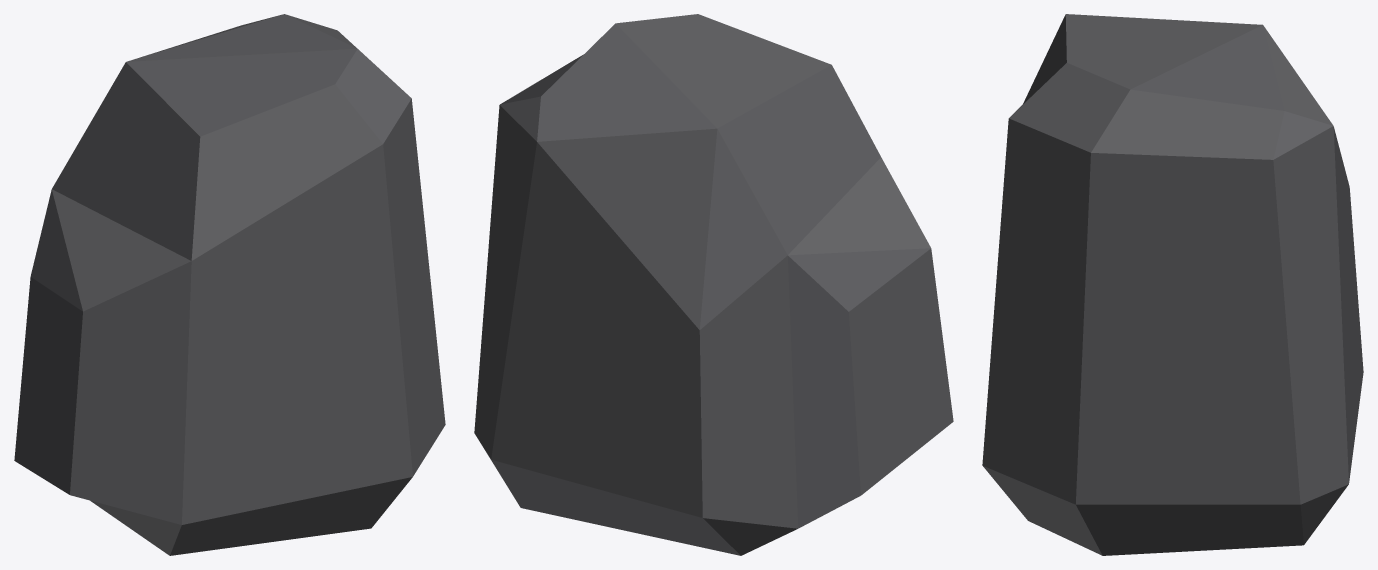
File: TB_Env_Rock1_C.FBX
3 views of the same model, side by side, from view 1: azimuth 30°, elevation 25°; view 2: azimuth 150°, elevation 25°; view 3: azimuth 270°, elevation 25° (orthographic). The views are drawn at different scales.
Parts seen in each view (by area): view 1: TB_Env_Rock1_C; view 2: TB_Env_Rock1_C; view 3: TB_Env_Rock1_C.
Part boxes in pixels (x1,y1,x2,y2): TB_Env_Rock1_C: (14, 14, 445, 555); TB_Env_Rock1_C: (474, 14, 953, 555); TB_Env_Rock1_C: (982, 14, 1363, 555).
Size of the model in its own units: 2.42 by 2.67 by 2.05.
